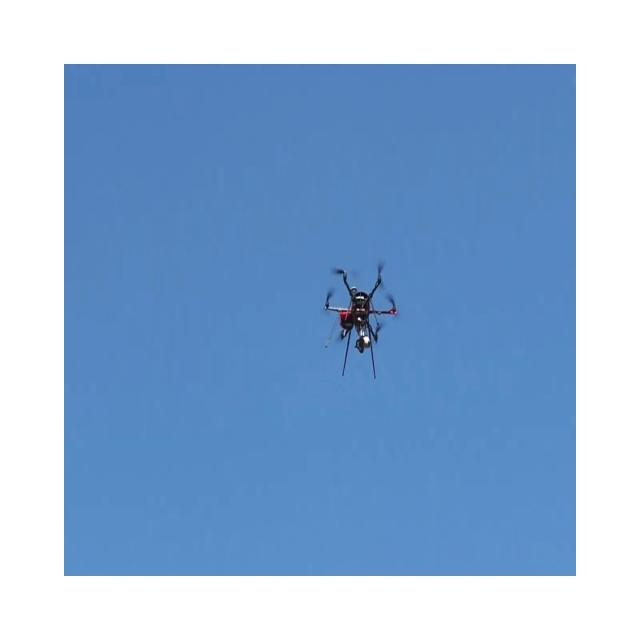drone: (323, 260, 398, 378)
